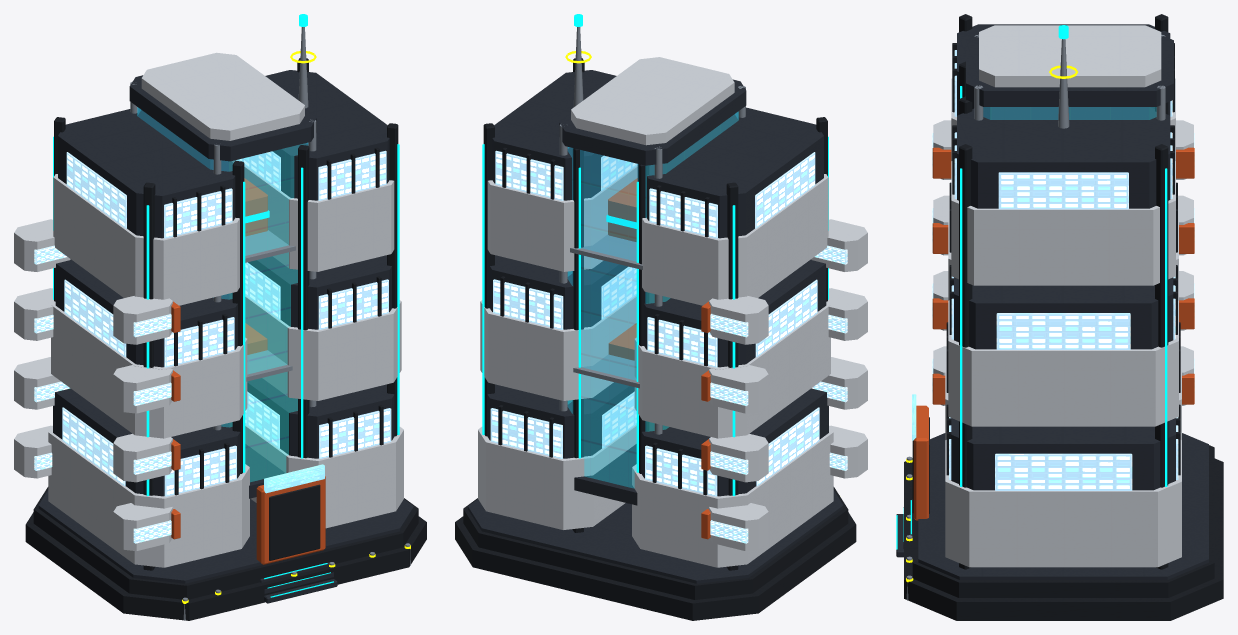
File: bldg_01_r1_03.glb
3 views of the same model, side by side, from view 1: azimuth 30°, elevation 25°; view 2: azimuth 150°, elevation 25°; view 3: azimuth 270°, elevation 25° (orthographic). The views are drawn at different scales.
Parts seen in each view (by area): view 1: Bldg01_C03_aero_white, Bldg01_C03_carbon_slate, Bldg01_C03_gunmetal, Bldg01_C03_window_lit, Bldg01_C03_glass_cyan, Bldg01_C03_accent_orange, Bldg01_C03_led_cyan, Bldg01_C03_steel_machined, Bldg01_C03_marquee; view 2: Bldg01_C03_aero_white, Bldg01_C03_carbon_slate, Bldg01_C03_gunmetal, Bldg01_C03_window_lit, Bldg01_C03_glass_cyan, Bldg01_C03_steel_machined, Bldg01_C03_led_cyan, Bldg01_C03_accent_orange; view 3: Bldg01_C03_aero_white, Bldg01_C03_carbon_slate, Bldg01_C03_gunmetal, Bldg01_C03_window_lit, Bldg01_C03_accent_orange, Bldg01_C03_led_cyan, Bldg01_C03_glass_cyan, Bldg01_C03_steel_machined.
Boxes of the visible parts, x1=… form: Bldg01_C03_aero_white: x1=14, y1=52, x2=403, y2=567; Bldg01_C03_carbon_slate: x1=38, y1=70, x2=413, y2=603; Bldg01_C03_gunmetal: x1=25, y1=58, x2=426, y2=620; Bldg01_C03_window_lit: x1=34, y1=150, x2=391, y2=543; Bldg01_C03_glass_cyan: x1=137, y1=107, x2=308, y2=481; Bldg01_C03_accent_orange: x1=171, y1=178, x2=325, y2=564; Bldg01_C03_led_cyan: x1=53, y1=14, x2=399, y2=597; Bldg01_C03_steel_machined: x1=130, y1=27, x2=410, y2=620; Bldg01_C03_marquee: x1=264, y1=464, x2=324, y2=493; Bldg01_C03_aero_white: x1=478, y1=57, x2=867, y2=567; Bldg01_C03_carbon_slate: x1=468, y1=70, x2=843, y2=583; Bldg01_C03_gunmetal: x1=455, y1=58, x2=856, y2=620; Bldg01_C03_window_lit: x1=490, y1=150, x2=847, y2=543; Bldg01_C03_glass_cyan: x1=567, y1=111, x2=738, y2=488; Bldg01_C03_steel_machined: x1=559, y1=27, x2=839, y2=495; Bldg01_C03_led_cyan: x1=482, y1=14, x2=828, y2=496; Bldg01_C03_accent_orange: x1=608, y1=178, x2=710, y2=539; Bldg01_C03_aero_white: x1=933, y1=25, x2=1193, y2=567; Bldg01_C03_carbon_slate: x1=896, y1=24, x2=1208, y2=579; Bldg01_C03_gunmetal: x1=904, y1=14, x2=1223, y2=620; Bldg01_C03_window_lit: x1=932, y1=50, x2=1194, y2=490; Bldg01_C03_accent_orange: x1=913, y1=147, x2=1194, y2=520; Bldg01_C03_led_cyan: x1=896, y1=25, x2=1167, y2=549; Bldg01_C03_glass_cyan: x1=983, y1=107, x2=1156, y2=119; Bldg01_C03_steel_machined: x1=906, y1=34, x2=1165, y2=600.
Size of the model in its own units: 12.23 by 19.12 by 10.23.
10 materials, 10 textured.
